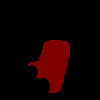vestito: (28, 40, 70, 92)
